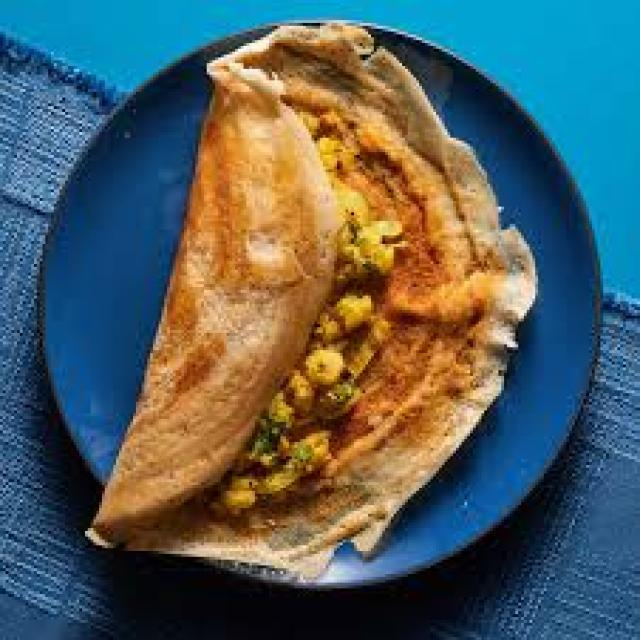Wet Waste: (88, 23, 535, 583)
